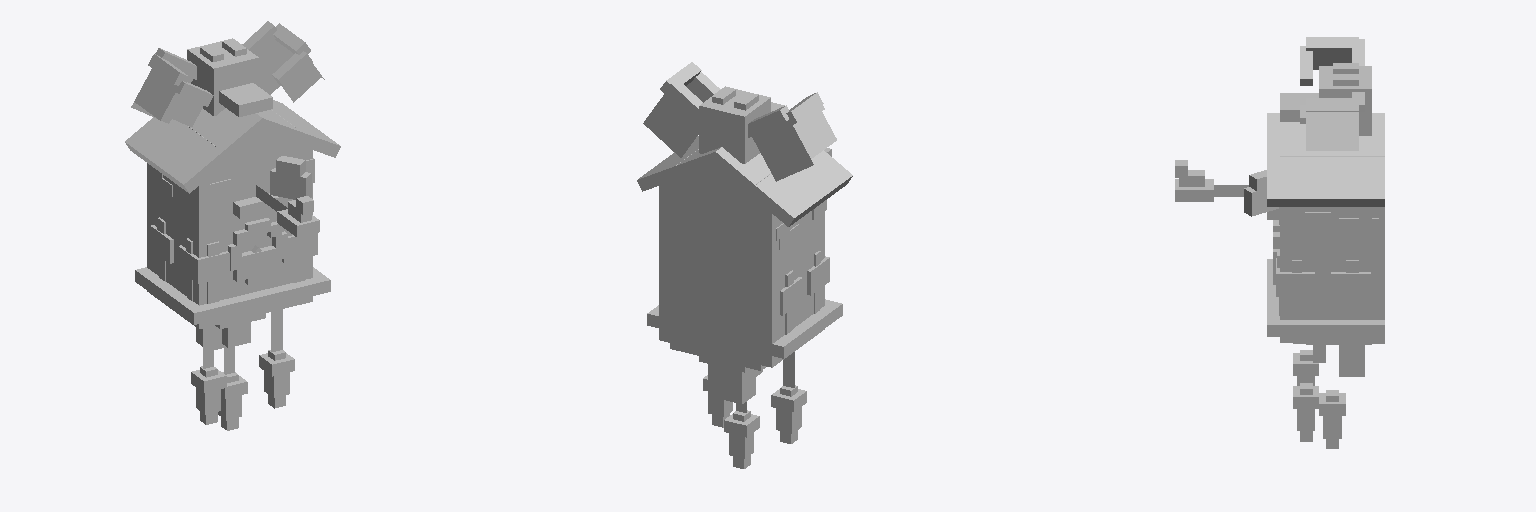
The model's file is 580_cookoo_clock.obj.
3 views of the same model, side by side, from view 1: azimuth 30°, elevation 25°; view 2: azimuth 150°, elevation 25°; view 3: azimuth 270°, elevation 25° (orthographic).
Parts seen in each view (by area): view 1: roof1, box1, base1, dragonHead, box5, roof2, tree16, dragonMouth, wing10, wing2, door1, wing12 (+13 smaller); view 2: box1, box5, roof1, box4, dragonHead, base1, wing8, wing2, roof2, base6, wing10, base2 (+9 smaller); view 3: roof2, box1, base1, box5, wing4, dragonHead, box4, tree9, tree14, base6, wing9, wing3 (+5 smaller).
Part boxes in pixels (left/top/right/bottom): roof1: left=125, top=108, right=266, bottom=193; box1: left=147, top=141, right=312, bottom=245; base1: left=135, top=267, right=330, bottom=324; dragonHead: left=187, top=38, right=258, bottom=115; box5: left=147, top=232, right=312, bottom=305; roof2: left=256, top=100, right=340, bottom=157; tree16: left=178, top=245, right=231, bottom=283; dragonMouth: left=219, top=83, right=272, bottom=116; wing10: left=134, top=69, right=178, bottom=120; wing2: left=258, top=40, right=293, bottom=94; door1: left=270, top=168, right=311, bottom=199; wing12: left=164, top=93, right=203, bottom=126; box1: left=659, top=174, right=824, bottom=284; box5: left=659, top=281, right=824, bottom=343; roof1: left=711, top=147, right=852, bottom=226; box4: left=659, top=254, right=813, bottom=307; dragonHead: left=699, top=86, right=770, bottom=163; base1: left=647, top=299, right=842, bottom=358; wing8: left=752, top=119, right=813, bottom=181; wing2: left=643, top=93, right=698, bottom=157; roof2: left=637, top=136, right=720, bottom=191; base6: left=708, top=364, right=755, bottom=403; wing10: left=793, top=107, right=836, bottom=158; base2: left=659, top=329, right=824, bottom=367; roof2: left=1267, top=113, right=1384, bottom=206; box1: left=1280, top=207, right=1384, bottom=259; base1: left=1267, top=259, right=1384, bottom=336; box5: left=1280, top=284, right=1384, bottom=319; wing4: left=1306, top=112, right=1358, bottom=150; dragonHead: left=1319, top=66, right=1371, bottom=135; box4: left=1302, top=260, right=1384, bottom=283; tree9: left=1276, top=258, right=1314, bottom=296; tree14: left=1331, top=272, right=1370, bottom=296; base6: left=1339, top=345, right=1364, bottom=376; wing9: left=1306, top=37, right=1358, bottom=54; wing3: left=1306, top=98, right=1358, bottom=111.
Bounding box in the file's own units: 0.4708 × 1 × 0.5001.